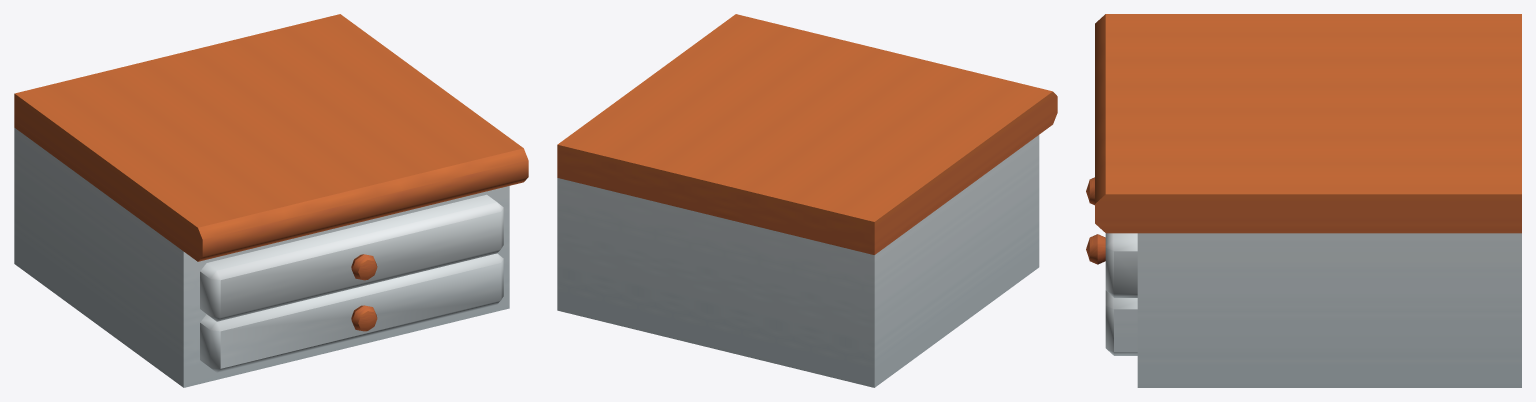
Rendered from kitchencounter_straight_A.gltf.
The picture shows the model from 3 angles, left to right: view 1: azimuth 30°, elevation 25°; view 2: azimuth 150°, elevation 25°; view 3: azimuth 270°, elevation 25°; orthographic projection. The views are drawn at different scales.
Visible parts, largest first — view 1: kitchencounter_straight_A; view 2: kitchencounter_straight_A; view 3: kitchencounter_straight_A.
Boxes of the visible parts, x1,y1,x2,y2 form: kitchencounter_straight_A: [14, 14, 528, 387]; kitchencounter_straight_A: [557, 14, 1057, 387]; kitchencounter_straight_A: [1086, 14, 1521, 387].
Bounding box in the file's own units: 2 × 1 × 2.04.
1 material, 1 textured.
